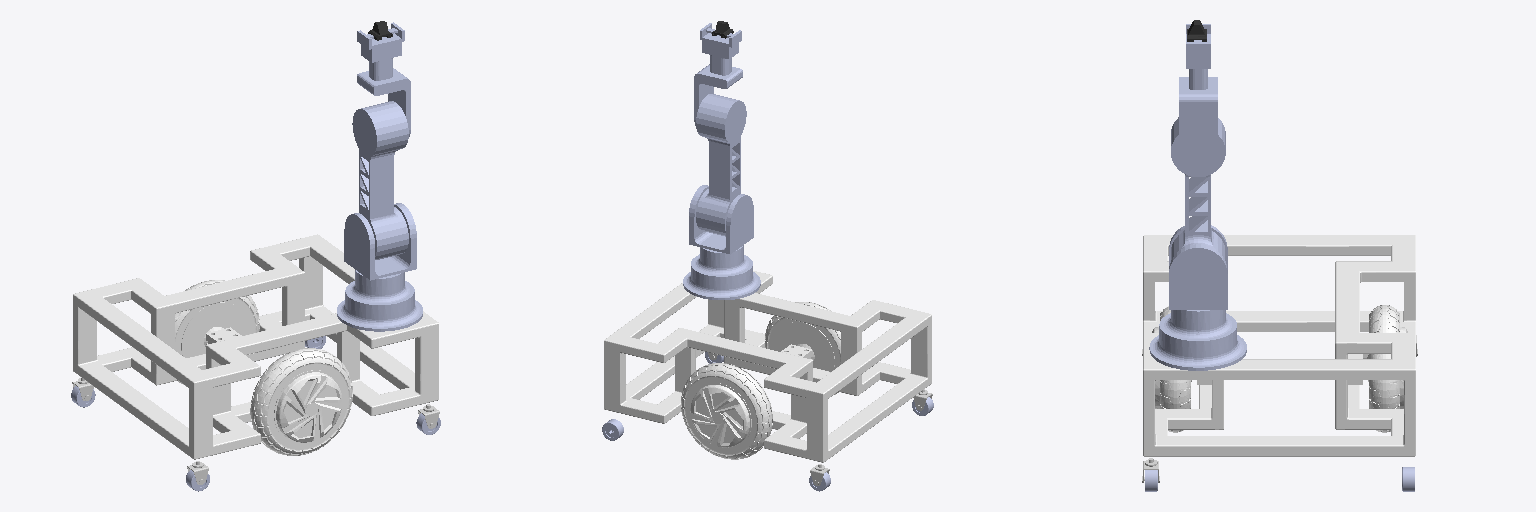
The robot description file, URDF, robot "nova":
<?xml version="1.0" encoding="utf-8"?>
<!-- This URDF was automatically created by SolidWorks to URDF Exporter! Originally created by [author] ([email redacted]) 
     Commit Version: 1.6.0-4-g7f85cfe  Build Version: 1.6.7995.38578
     For more information, please see http://wiki.ros.org/sw_urdf_exporter -->
<robot
  name="nova">
  <link name="base_footprint"/>
  <joint name="base_footprint_to_base_link" type="fixed">
    <origin xyz="0 0 0.20" rpy="1.5708 0 0"/>
    <parent link="base_footprint"/>
    <child link="base_link"/>
  </joint>
  <link
    name="base_link">
    <inertial>
      <origin
        xyz="-0.000348090209876452 -0.0748795009172863 -9.35843189910264E-06"
        rpy="0 0 0" />
      <mass
        value="3.65195395442474" />
      <inertia
        ixx="0.0830856808237229"
        ixy="1.37041419075526E-07"
        ixz="3.71835172364014E-07"
        iyy="0.180243025087059"
        iyz="1.03107156925548E-07"
        izz="0.12308843566881" />
    </inertial>
    <visual>
      <origin
        xyz="0 0 0"
        rpy="0 0 0" />
      <geometry>
        <mesh
          filename="package://nova_nav/meshes/base_link.STL" />
      </geometry>
      <material
        name="">
        <color
          rgba="1 1 1 1" />
      </material>
    </visual>
    <collision>
      <origin
        xyz="0 0 0"
        rpy="0 0 0" />
      <geometry>
        <mesh
          filename="package://nova_nav/meshes/base_link.STL" />
      </geometry>
    </collision>
  </link>
  <link
    name="KIRI_UTAMA">
    <inertial>
      <origin
        xyz="-7.46035397979072E-07 4.81849486815011E-06 -0.0331497387034927"
        rpy="0 0 0" />
      <mass
        value="1.43144480602326" />
      <inertia
        ixx="0.00331965929071568"
        ixy="-5.23867245849175E-09"
        ixz="-5.91992287262301E-08"
        iyy="0.00331969480552574"
        iyz="3.8563873495661E-07"
        izz="0.00595557900945916" />
    </inertial>
    <visual>
      <origin
        xyz="0 0 0"
        rpy="0 0 0" />
      <geometry>
        <mesh
          filename="package://nova_nav/meshes/KIRI_UTAMA.STL" />
      </geometry>
      <material
        name="">
        <color
          rgba="1 1 1 1" />
      </material>
    </visual>
    <collision>
      <origin
        xyz="0 0 0"
        rpy="0 0 0" />
      <geometry>
        <mesh
          filename="package://nova_nav/meshes/KIRI_UTAMA.STL" />
      </geometry>
    </collision>
  </link>
  <joint
    name="KIRI_UTAMA"
    type="continuous">
    <origin
      xyz="-0.0015818 -0.1135 -0.19675"
      rpy="3.1416 0 0" />
    <parent
      link="base_link" />
    <child
      link="KIRI_UTAMA" />
    <axis
      xyz="0 0 1" />
    <limit
      effort="50"
      velocity="50" />
    <dynamics
      damping="0.5"
      friction="0.5" />
  </joint>
  <link
    name="KANAN_UTAMA">
    <inertial>
      <origin
        xyz="7.37719561445804E-07 -4.8197736636506E-06 0.0331497385495518"
        rpy="0 0 0" />
      <mass
        value="1.43144520608886" />
      <inertia
        ixx="0.00331965941926116"
        ixy="-5.5295326770335E-09"
        ixz="-5.9526658072244E-08"
        iyy="0.00331969273741215"
        iyz="3.85588328041861E-07"
        izz="0.00595557706241427" />
    </inertial>
    <visual>
      <origin
        xyz="0 0 0"
        rpy="0 0 0" />
      <geometry>
        <mesh
          filename="package://nova_nav/meshes/KANAN_UTAMA.STL" />
      </geometry>
      <material
        name="">
        <color
          rgba="1 1 1 1" />
      </material>
    </visual>
    <collision>
      <origin
        xyz="0 0 0"
        rpy="0 0 0" />
      <geometry>
        <mesh
          filename="package://nova_nav/meshes/KANAN_UTAMA.STL" />
      </geometry>
    </collision>
  </link>
  <joint
    name="KANAN_UTAMA"
    type="continuous">
    <origin
      xyz="-0.0015818 -0.1135 0.1959"
      rpy="3.1416 0 0" />
    <parent
      link="base_link" />
    <child
      link="KANAN_UTAMA" />
    <axis
      xyz="0 -1 0" />
    <limit
      effort="50"
      velocity="50" />
    <dynamics
      damping="0.5"
      friction="0.5" />
  </joint>
  <link
    name="CASTOR1">
    <inertial>
      <origin
        xyz="-2.77555756156289E-17 -0.0184805994312317 8.32667268468867E-17"
        rpy="0 0 0" />
      <mass
        value="0.00562474956884102" />
      <inertia
        ixx="8.10640465030264E-07"
        ixy="5.04431057290875E-22"
        ixz="1.96293836767954E-22"
        iyy="6.17911693154733E-07"
        iyz="3.87650632277654E-21"
        izz="5.97890190142364E-07" />
    </inertial>
    <visual>
      <origin
        xyz="0 0 0"
        rpy="0 0 0" />
      <geometry>
        <mesh
          filename="package://nova_nav/meshes/CASTOR1.STL" />
      </geometry>
      <material
        name="">
        <color
          rgba="0.898039215686275 0.898039215686275 0.898039215686275 1" />
      </material>
    </visual>
    <collision>
      <origin
        xyz="0 0 0"
        rpy="0 0 0" />
      <geometry>
        <mesh
          filename="package://nova_nav/meshes/CASTOR1.STL" />
      </geometry>
    </collision>
  </link>
  <joint
    name="CASTOR1"
    type="continuous">
    <origin
      xyz="0.230171212422855 -0.15852 -0.198349474349821"
      rpy="0 0 0" />
    <parent
      link="base_link" />
    <child
      link="CASTOR1" />
    <axis
      xyz="0 1 0" />
  </joint>
  <link
    name="CASTOR_RODA1">
    <inertial>
      <origin
        xyz="0 -0.034 -5.55111512312578E-17"
        rpy="0 0 0" />
      <mass
        value="0.0202974816716819" />
      <inertia
        ixx="2.57422305520007E-06"
        ixy="1.60451659232216E-22"
        ixz="8.8304053083525E-24"
        iyy="2.57422305520007E-06"
        iyz="-8.24328739106182E-24"
        izz="3.96551871701517E-06" />
    </inertial>
    <visual>
      <origin
        xyz="0 0 0"
        rpy="0 0 0" />
      <geometry>
        <mesh
          filename="package://nova_nav/meshes/CASTOR_RODA1.STL" />
      </geometry>
      <material
        name="">
        <color
          rgba="0.796078431372549 0.823529411764706 0.937254901960784 1" />
      </material>
    </visual>
    <collision>
      <origin
        xyz="0 0 0"
        rpy="0 0 0" />
      <geometry>
        <mesh
          filename="package://nova_nav/meshes/CASTOR_RODA1.STL" />
      </geometry>
    </collision>
  </link>
  <joint
    name="CASTOR_RODA1"
    type="continuous">
    <origin
      xyz="0 0 0"
      rpy="0 0 0" />
    <parent
      link="CASTOR1" />
    <child
      link="CASTOR_RODA1" />
    <axis
      xyz="0 0 1" />
    <limit
      effort="50"
      velocity="50" />
    <dynamics
      damping="0.5"
      friction="0.5" />
  </joint>
  <link
    name="CASTOR2">
    <inertial>
      <origin
        xyz="0 -0.0184805994312317 5.55111512312578E-17"
        rpy="0 0 0" />
      <mass
        value="0.00562474956884102" />
      <inertia
        ixx="8.10640465030263E-07"
        ixy="5.02421503800225E-22"
        ixz="1.95284094809271E-22"
        iyy="6.17911693154733E-07"
        iyz="3.87279848802643E-21"
        izz="5.97890190142363E-07" />
    </inertial>
    <visual>
      <origin
        xyz="0 0 0"
        rpy="0 0 0" />
      <geometry>
        <mesh
          filename="package://nova_nav/meshes/CASTOR2.STL" />
      </geometry>
      <material
        name="">
        <color
          rgba="0.898039215686275 0.898039215686275 0.898039215686275 1" />
      </material>
    </visual>
    <collision>
      <origin
        xyz="0 0 0"
        rpy="0 0 0" />
      <geometry>
        <mesh
          filename="package://nova_nav/meshes/CASTOR2.STL" />
      </geometry>
    </collision>
  </link>
  <joint
    name="CASTOR2"
    type="continuous">
    <origin
      xyz="0.230171212422855 -0.15852 0.1975"
      rpy="0 0 0" />
    <parent
      link="base_link" />
    <child
      link="CASTOR2" />
    <axis
      xyz="0 1 0" />
  </joint>
  <link
    name="CASTORRODA2">
    <inertial>
      <origin
        xyz="0.46 -0.034 -1.94289029309402E-16"
        rpy="0 0 0" />
      <mass
        value="0.0202974816716819" />
      <inertia
        ixx="2.57422305520008E-06"
        ixy="1.60451659232216E-22"
        ixz="8.8304053083525E-24"
        iyy="2.57422305520007E-06"
        iyz="-8.24328739106182E-24"
        izz="3.96551871701517E-06" />
    </inertial>
    <visual>
      <origin
        xyz="0 0 0"
        rpy="0 0 0" />
      <geometry>
        <mesh
          filename="package://nova_nav/meshes/CASTORRODA2.STL" />
      </geometry>
      <material
        name="">
        <color
          rgba="0.796078431372549 0.823529411764706 0.937254901960784 1" />
      </material>
    </visual>
    <collision>
      <origin
        xyz="0 0 0"
        rpy="0 0 0" />
      <geometry>
        <mesh
          filename="package://nova_nav/meshes/CASTORRODA2.STL" />
      </geometry>
    </collision>
  </link>
  <joint
    name="CASTORRODA2"
    type="continuous">
    <origin
      xyz="-0.46 0 0"
      rpy="0 0 0" />
    <parent
      link="CASTOR2" />
    <child
      link="CASTORRODA2" />
    <axis
      xyz="0 0 1" />
    <limit
      effort="50"
      velocity="50" />
    <dynamics
      damping="0.5"
      friction="0.5" />
  </joint>
  <link
    name="CASTOR_3">
    <inertial>
      <origin
        xyz="0 -0.0184805994312317 -5.55111512312578E-17"
        rpy="0 0 0" />
      <mass
        value="0.00562474956884103" />
      <inertia
        ixx="8.10640465030263E-07"
        ixy="-5.10099766489181E-22"
        ixz="1.42676538761894E-22"
        iyy="6.17911693154733E-07"
        iyz="-3.58994095472061E-21"
        izz="5.97890190142363E-07" />
    </inertial>
    <visual>
      <origin
        xyz="0 0 0"
        rpy="0 0 0" />
      <geometry>
        <mesh
          filename="package://nova_nav/meshes/CASTOR3.STL" />
      </geometry>
      <material
        name="">
        <color
          rgba="0.898039215686275 0.898039215686275 0.898039215686275 1" />
      </material>
    </visual>
    <collision>
      <origin
        xyz="0 0 0"
        rpy="0 0 0" />
      <geometry>
        <mesh
          filename="package://nova_nav/meshes/CASTOR3.STL" />
      </geometry>
    </collision>
  </link>
  <joint
    name="CASTOR_3"
    type="continuous">
    <origin
      xyz="-0.229828787577145 -0.15852 -0.19834947434982"
      rpy="0 0 0" />
    <parent
      link="base_link" />
    <child
      link="CASTOR_3" />
    <axis
      xyz="0 1 0" />
  </joint>
  <link
    name="CASTORRODA3">
    <inertial>
      <origin
        xyz="0 0 0"
        rpy="0 0 0" />
      <mass
        value="0.0202974816716819" />
      <inertia
        ixx="2.57422305520007E-06"
        ixy="-1.63980963179109E-22"
        ixz="6.84517183822523E-24"
        iyy="2.57422305520007E-06"
        iyz="1.00079393645083E-23"
        izz="3.96551871701517E-06" />
    </inertial>
    <visual>
      <origin
        xyz="0 0 0"
        rpy="0 0 0" />
      <geometry>
        <mesh
          filename="package://nova_nav/meshes/CASTORRODA3.STL" />
      </geometry>
      <material
        name="">
        <color
          rgba="0.796078431372549 0.823529411764706 0.937254901960784 1" />
      </material>
    </visual>
    <collision>
      <origin
        xyz="0 0 0"
        rpy="0 0 0" />
      <geometry>
        <mesh
          filename="package://nova_nav/meshes/CASTORRODA3.STL" />
      </geometry>
    </collision>
  </link>
  <joint
    name="CASTORRODA3"
    type="continuous">
    <origin
      xyz="0 -0.034 0"
      rpy="0 0 0" />
    <parent
      link="CASTOR_3" />
    <child
      link="CASTORRODA3" />
    <axis
      xyz="0 0 -1" />
    <limit
      effort="50"
      velocity="50" />
    <dynamics
      damping="0.5"
      friction="0.5" />
  </joint>
  <link
    name="CASTOR_4">
    <inertial>
      <origin
        xyz="-5.55111512312578E-17 0.0155194005687683 -5.55111512312578E-17"
        rpy="0 0 0" />
      <mass
        value="0.00562474956884103" />
      <inertia
        ixx="8.10640465030263E-07"
        ixy="-5.06966966936254E-22"
        ixz="1.42171667782553E-22"
        iyy="6.17911693154733E-07"
        iyz="-3.52866204226364E-21"
        izz="5.97890190142364E-07" />
    </inertial>
    <visual>
      <origin
        xyz="0 0 0"
        rpy="0 0 0" />
      <geometry>
        <mesh
          filename="package://nova_nav/meshes/CASTOR4.STL" />
      </geometry>
      <material
        name="">
        <color
          rgba="0.898039215686275 0.898039215686275 0.898039215686275 1" />
      </material>
    </visual>
    <collision>
      <origin
        xyz="0 0 0"
        rpy="0 0 0" />
      <geometry>
        <mesh
          filename="package://nova_nav/meshes/CASTOR4.STL" />
      </geometry>
    </collision>
  </link>
  <joint
    name="CASTOR_4"
    type="continuous">
    <origin
      xyz="-0.229828787577145 -0.19252 0.1975"
      rpy="0 0 0" />
    <parent
      link="base_link" />
    <child
      link="CASTOR_4" />
    <axis
      xyz="0 1 0" />
  </joint>
  <link
    name="CASTORRODA4">
    <inertial>
      <origin
        xyz="-0.46 0 2.4980018054066E-16"
        rpy="0 0 0" />
      <mass
        value="0.0202974816716819" />
      <inertia
        ixx="2.57422305520008E-06"
        ixy="-1.63980963179109E-22"
        ixz="6.84517183822523E-24"
        iyy="2.57422305520007E-06"
        iyz="1.00079393645083E-23"
        izz="3.96551871701517E-06" />
    </inertial>
    <visual>
      <origin
        xyz="0 0 0"
        rpy="0 0 0" />
      <geometry>
        <mesh
          filename="package://nova_nav/meshes/CASTORRODA4.STL" />
      </geometry>
      <material
        name="">
        <color
          rgba="0.796078431372549 0.823529411764706 0.937254901960784 1" />
      </material>
    </visual>
    <collision>
      <origin
        xyz="0 0 0"
        rpy="0 0 0" />
      <geometry>
        <mesh
          filename="package://nova_nav/meshes/CASTORRODA4.STL" />
      </geometry>
    </collision>
  </link>
  <joint
    name="CASTORRODA4"
    type="continuous">
    <origin
      xyz="0.46 0 0"
      rpy="0 0 0" />
    <parent
      link="CASTOR_4" />
    <child
      link="CASTORRODA4" />
    <axis
      xyz="0 0 -1" />
    <limit
      effort="50"
      velocity="50" />
    <dynamics
      damping="0.5"
      friction="0.5" />
  </joint>

  <joint type="fixed" name="laser_joint">
    <origin xyz="-0.245 0.05 0" rpy="-1.5708 0 0"/>
    <child link="laser_frame"/>
    <parent link="base_link"/>
    <axis xyz="0 0 0" rpy="0 0 0"/>
  </joint>

  <link name='laser_frame'>
    <inertial>
      <mass value="1e-5"/>
      <origin xyz="0 0 0" rpy="0 0 0"/>
      <inertia
          ixx="1e-6" ixy="0" ixz="0"
          iyy="1e-6" iyz="0"
          izz="1e-6"
      />
    </inertial>
    <collision name='collision'>
      <origin xyz="0 0 0" rpy="0 0 0"/> 
      <geometry>
        <box size=".1 .1 .1"/>
      </geometry>
    </collision>

    <visual name='laser_frame_visual'>
      <origin xyz="0 0 -0.05" rpy="0 0 0"/>
      <geometry>
        <mesh filename = "package://nova_nav/meshes/lidar.stl"/>
      </geometry>
    </visual>
    </link>

    <joint name="arm_mount_joint" type="fixed">
        <origin xyz="0.175 0.0 0.125" rpy="-1.5708 3.14 0"/>
        <parent link="base_link"/>
        <child link="arm_base_link"/>
    </joint>

    <link
    name="arm_base_link">
    <inertial>
      <origin
        xyz="0.0338 0.018286 -0.0073901"
        rpy="0 0 0" />
      <mass
        value="0.7735" />
      <inertia
        ixx="0.0010882"
        ixy="-9.4105E-36"
        ixz="-1.0943E-35"
        iyy="0.001303"
        iyz="-4.8065E-20"
        izz="0.0010882" />
    </inertial>
    <visual>
      <origin
        xyz="0 0 0"
        rpy="0 0 0" />
      <geometry>
        <mesh filename="package://nova_arm/meshes/base_link.STL"/>

      </geometry>
      <material
        name="">
        <color
          rgba="0.79216 0.81961 0.93333 1" />
      </material>
    </visual>
    <collision>
      <origin
        xyz="0 0 0"
        rpy="0 0 0" />
      <geometry>
        <mesh filename="package://nova_arm/meshes/base_link.STL"/>
      </geometry>
    </collision>
  </link>

  <link
    name="Link_1">
    <inertial>
      <origin
        xyz="1.3878E-17 0.046136 -0.0050286"
        rpy="0 0 0" />
      <mass
        value="0.23804" />
      <inertia
        ixx="0.00057347"
        ixy="-9.3723E-20"
        ixz="-8.8938E-21"
        iyy="0.00048732"
        iyz="9.6538E-06"
        izz="0.00037661" />
    </inertial>
    <visual>
      <origin xyz="0 0 0" rpy="1.5708 0 1.5708"/>
      <geometry><mesh filename="package://nova_arm/meshes/Link_1.STL"/></geometry>
      <material name=""><color rgba="0.79216 0.81961 0.93333 1"/></material>
    </visual>

    <collision>
      <origin xyz="0 0 0" rpy="1.5708 0 1.5708"/>
      <geometry><mesh filename="package://nova_arm/meshes/Link_1.STL"/></geometry>
    </collision>
  </link>

  <joint
    name="joint_1"
    type="revolute">
    <origin
      xyz="0 0  0.085"
      rpy="0 0 0" />
    <parent
      link="arm_base_link" />
    <child
      link="Link_1" />
    <axis
      xyz="0 0 1" />
    <limit
      lower="-3.1416"
      upper="3.1416"
      effort="15"
      velocity="1" />
  </joint>

  <link
    name="Link_2">
    <inertial>
      <origin
        xyz="3.4326E-05 1.6537E-05 -0.099338"
        rpy="0 0 0" />
      <mass
        value="0.86019" />
      <inertia
        ixx="0.0080287"
        ixy="2.0422E-07"
        ixz="1.3058E-06"
        iyy="0.0081005"
        iyz="2.0024E-06"
        izz="0.00062811" />
    </inertial>
    <visual>
      <origin xyz="0 0 0" rpy="1.5708 0 -1.5708"/>
      <geometry><mesh filename="package://nova_arm/meshes/Link_2.STL"/></geometry>
      <material name=""><color rgba="0.79216 0.81961 0.93333 1"/></material>
    </visual>

    <collision>
      <origin xyz="0 0 0" rpy="1.5708 0 -1.5708"/>
      <geometry><mesh filename="package://nova_arm/meshes/Link_2.STL"/></geometry>
    </collision>
  </link>
  <joint
    name="joint_2"
    type="revolute">
    <origin
      xyz="0 0 0.066"
      rpy="0 -1.5708 0" />
    <parent
      link="Link_1" />
    <child
      link="Link_2" />
    <axis
      xyz="0 0 1" />
    <limit
      lower="-1.919"
      upper="1.919"
      effort="12"
      velocity="1" />
  </joint>

  <link
    name="Link_3">
    <inertial>
      <origin
        xyz="0.10227 0.012019 -1.8999E-09"
        rpy="0 0 0" />
      <mass
        value="0.27991" />
      <inertia
        ixx="0.00019399"
        ixy="0.00017687"
        ixz="1.3143E-11"
        iyy="0.00079147"
        iyz="-2.5241E-11"
        izz="0.00087188" />
    </inertial>
    <visual>
      <origin xyz="0 0 0" rpy="1.5708  0 0"/>
      <geometry><mesh filename="package://nova_arm/meshes/Link_3.STL"/></geometry>
      <material name=""><color rgba="0.79216 0.81961 0.93333 1"/></material>
    </visual>

    <collision>
      <origin xyz="0 0 0" rpy="1.5708  0 0"/>
      <geometry><mesh filename="package://nova_arm/meshes/Link_3.STL"/></geometry>
    </collision>
  </link>
  <joint
    name="joint_3"
    type="revolute">
    <origin
      xyz="0.20 0 0" 
      rpy="0 0 0"/>  
    <parent
      link="Link_2" />
    <child
      link="Link_3" />
    <axis
      xyz="0 0 1" />
    <limit
      lower="-2.332"
      upper="2.332"
      effort="10"
      velocity="1.5" />
  </joint>

  <link
    name="Link_4">
    <inertial>
      <origin
        xyz="-0.006593 0.012575 0.013127"
        rpy="0 0 0" />
      <mass
        value="0.0054854" />
      <inertia
        ixx="5.575E-07"
        ixy="-5.7528E-17"
        ixz="-5.3784E-08"
        iyy="3.2259E-07"
        iyz="1.0413E-16"
        izz="4.0861E-07" />
    </inertial>
    <visual>
      <origin
        xyz="0 0 0"
        rpy="0 0 0" />
      <geometry>
        <mesh
          filename="package://nova_arm/meshes/Link_4.STL" />
      </geometry>
      <material
        name="">
        <color
          rgba="0.25098 0.25098 0.25098 1" />
      </material>
    </visual>
    <collision>
      <origin
        xyz="0 0 0"
        rpy="0 0 0" />
      <geometry>
        <mesh
          filename="package://nova_arm/meshes/Link_4.STL" />
      </geometry>
    </collision>
  </link>

  <joint
    name="joint_4"
    type="prismatic">
    <origin
      xyz="0.17556 0.0027305 -0.012575"
      rpy="1.5708 0 1.5708" />
    <parent
      link="Link_3" />
    <child
      link="Link_4" />
    <axis
      xyz="-1 0 0" />
    <limit
      lower="0"
      upper="0.014"
      effort="50"
      velocity="0.02" />
  </joint>

  <link
    name="Link_5">
    <inertial>
      <origin
        xyz="-0.006593 0.012575 0.013127"
        rpy="0 0 0" />
      <mass
        value="0.0054854" />
      <inertia
        ixx="5.575E-07"
        ixy="-5.7303E-17"
        ixz="-5.3784E-08"
        iyy="3.2259E-07"
        iyz="1.058E-16"
        izz="4.0861E-07" />
    </inertial>
    <visual>
      <origin
        xyz="0 0 0"
        rpy="0 0 0" />
      <geometry>
        <mesh
          filename="package://nova_arm/meshes/Link_5.STL" />
      </geometry>
      <material
        name="">
        <color
          rgba="0.25098 0.25098 0.25098 1" />
      </material>
    </visual>
    <collision>
      <origin
        xyz="0 0 0"
        rpy="0 0 0" />
      <geometry>
        <mesh
          filename="package://nova_arm/meshes/Link_5.STL" />
      </geometry>
    </collision>
  </link>

  <joint
    name="joint_5"
    type="prismatic">
    <origin
      xyz="0.17556 0.0018695 0.012575"
      rpy="-1.5708 0 -1.5708" />
    <parent
      link="Link_3" />
    <child
      link="Link_5" />
    <axis
      xyz=" 1 0 0" />
    <limit
      lower="-0.014"
      upper="0"
      effort="50"
      velocity="0.02" />
  </joint>

</robot>

--- What the picture shows (computed from the rendered views, not written in the file) ---
3 views of the same robot in one strip: view 1: azimuth 30°, elevation 25°; view 2: azimuth 150°, elevation 25°; view 3: azimuth 270°, elevation 25° (orthographic).
Model nova with 19 links and 18 joints (3 revolute, 10 continuous, 2 prismatic, 3 fixed), rooted at base_footprint, posed every joint at zero.
Links seen in each view (by area): view 1: base_link, KANAN_UTAMA, Link_2, arm_base_link, KIRI_UTAMA, Link_1, Link_3; view 2: base_link, KIRI_UTAMA, Link_2, arm_base_link, KANAN_UTAMA, Link_3, Link_1; view 3: base_link, arm_base_link, Link_3, Link_1, Link_2, KIRI_UTAMA, KANAN_UTAMA.
Link boxes in pixels (box(x1,y1,x2,y2)): base_link: box(73, 234, 438, 459); KANAN_UTAMA: box(250, 348, 352, 455); Link_2: box(352, 101, 408, 259); arm_base_link: box(337, 270, 422, 331); KIRI_UTAMA: box(175, 280, 259, 384); Link_1: box(344, 203, 416, 280); Link_3: box(357, 22, 410, 136); base_link: box(604, 271, 931, 462); KIRI_UTAMA: box(681, 363, 772, 459); Link_2: box(696, 94, 746, 236); arm_base_link: box(683, 245, 760, 299); KANAN_UTAMA: box(765, 302, 840, 394); Link_3: box(694, 23, 742, 125); Link_1: box(689, 185, 753, 254); base_link: box(1143, 235, 1415, 456); arm_base_link: box(1149, 310, 1246, 370); Link_3: box(1179, 24, 1217, 172); Link_1: box(1169, 225, 1227, 309); Link_2: box(1171, 117, 1225, 260); KIRI_UTAMA: box(1367, 305, 1407, 432); KANAN_UTAMA: box(1152, 306, 1191, 432).
Bounding box of the posed robot: 0.4988 × 0.4238 × 0.7665 m (x, y, z).
Meshes: 18 distinct files referenced, 16 mesh visuals loaded (16 binary STL); not drawn: 2 (reference not matched to a file when rendering).